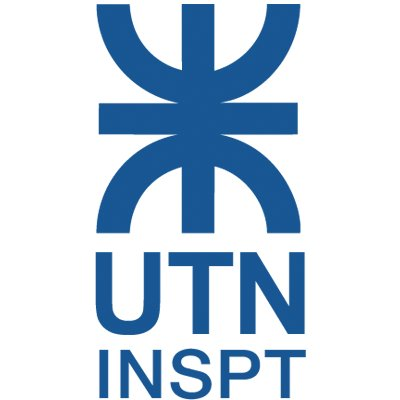utn: (92, 2, 301, 234)
